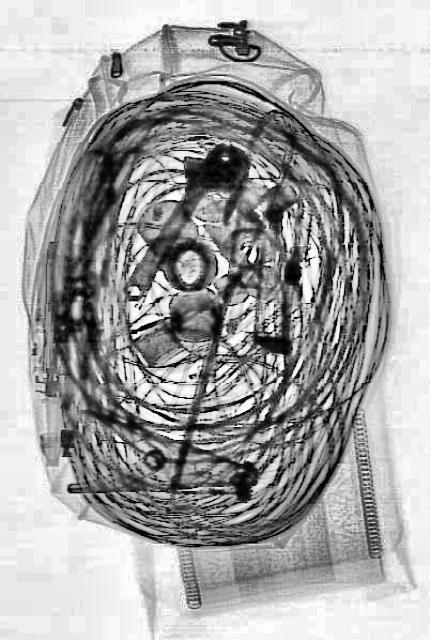Pliers: (64, 400, 256, 518)
Wrench: (105, 112, 255, 326)
